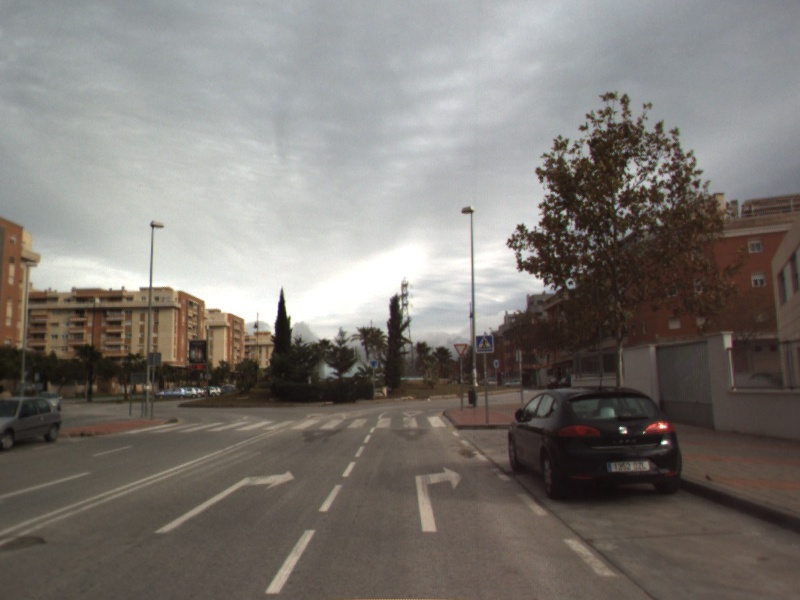RIGHT: (152, 468, 297, 535), (413, 464, 464, 533)
